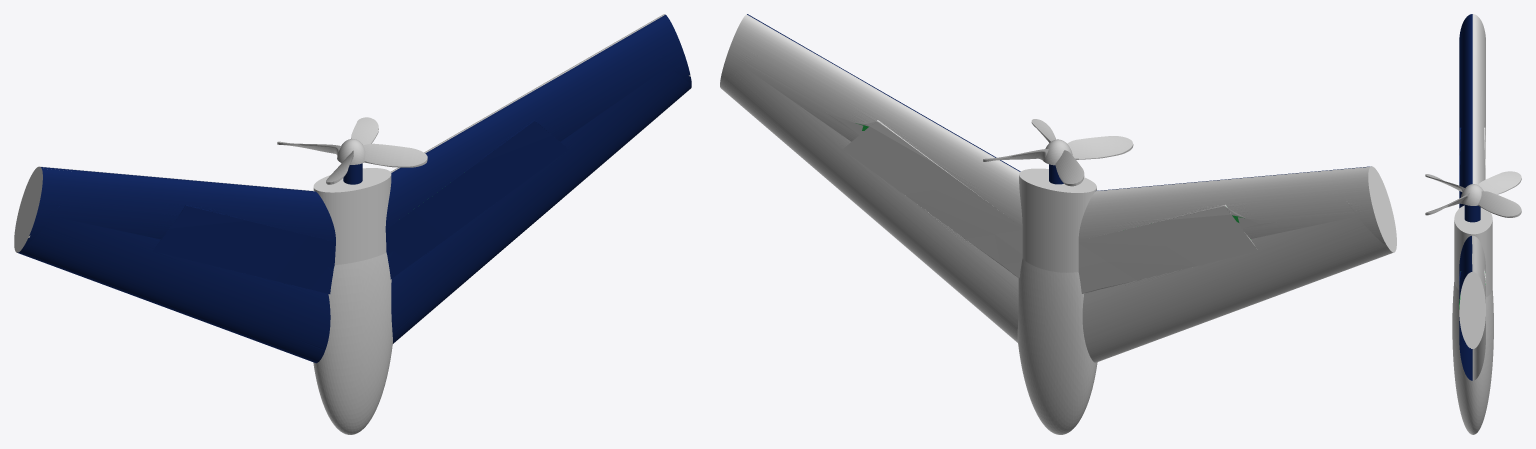
The model's file is modelFWdariBlender.obj.
3 views of the same model, side by side, from view 1: azimuth 30°, elevation 25°; view 2: azimuth 150°, elevation 25°; view 3: azimuth 270°, elevation 25° (orthographic). The views are drawn at different scales.
Visible parts, largest first — view 1: Object.6, Object.7, Object.4, Object.3, Object.2, Object.1; view 2: Object.6, Object.7, Object.4, Object.3, Object.1, Object.2; view 3: Object.6, Object.7, Object.4, Object.3, Object.2, Object.1, Object.5.
Boxes of the visible parts, left/top/right/bottom form: Object.6: left=14, top=166, right=335, bottom=363; Object.7: left=385, top=14, right=691, bottom=343; Object.4: left=313, top=252, right=392, bottom=434; Object.3: left=313, top=168, right=391, bottom=264; Object.2: left=277, top=139, right=427, bottom=167; Object.1: left=326, top=117, right=378, bottom=184; Object.6: left=1078, top=166, right=1396, bottom=362; Object.7: left=720, top=14, right=1022, bottom=342; Object.4: left=1017, top=258, right=1097, bottom=434; Object.3: left=1019, top=168, right=1096, bottom=272; Object.1: left=983, top=136, right=1133, bottom=164; Object.2: left=1031, top=119, right=1084, bottom=186; Object.6: left=1459, top=14, right=1485, bottom=208; Object.7: left=1459, top=235, right=1485, bottom=380; Object.4: left=1452, top=281, right=1493, bottom=434; Object.3: left=1454, top=205, right=1492, bottom=296; Object.2: left=1425, top=171, right=1521, bottom=215; Object.1: left=1425, top=174, right=1521, bottom=217; Object.5: left=1464, top=205, right=1480, bottom=222.
Size of the model in its own units: 60.79 by 29.67 by 8.89.
